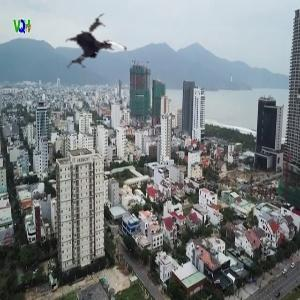drone: (59, 11, 137, 89)
